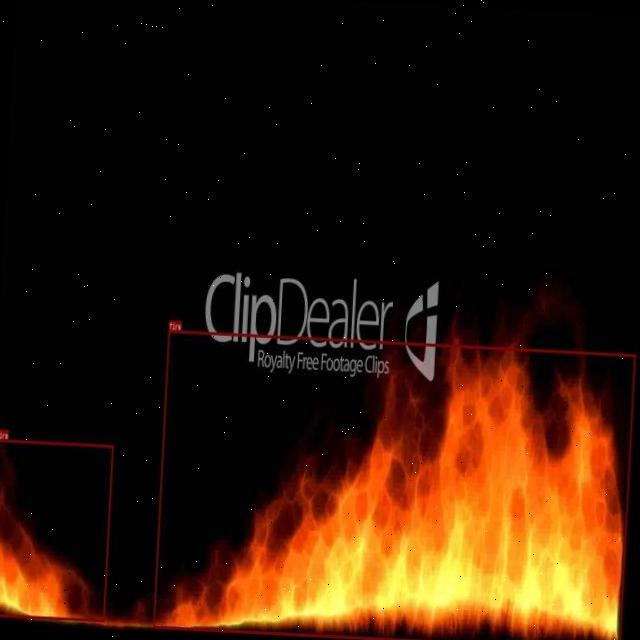fire: (152, 330, 635, 640), (0, 439, 113, 622)
